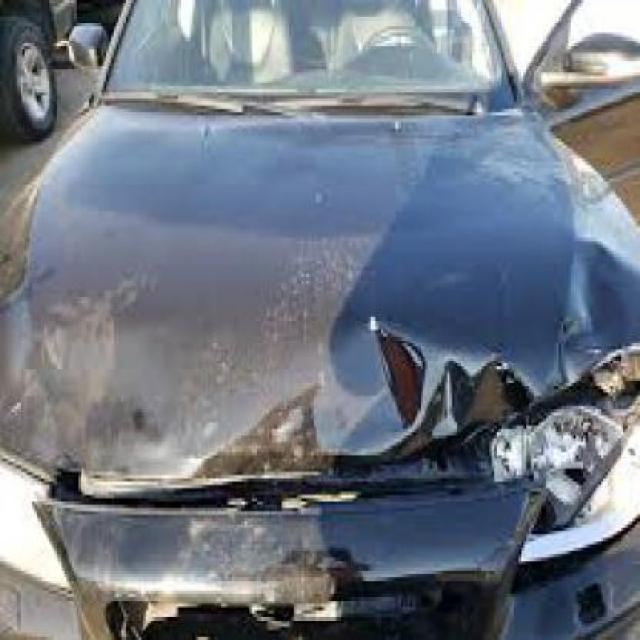damaged-hood: (5, 92, 638, 492)
